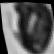correct: (7, 1, 54, 54)
